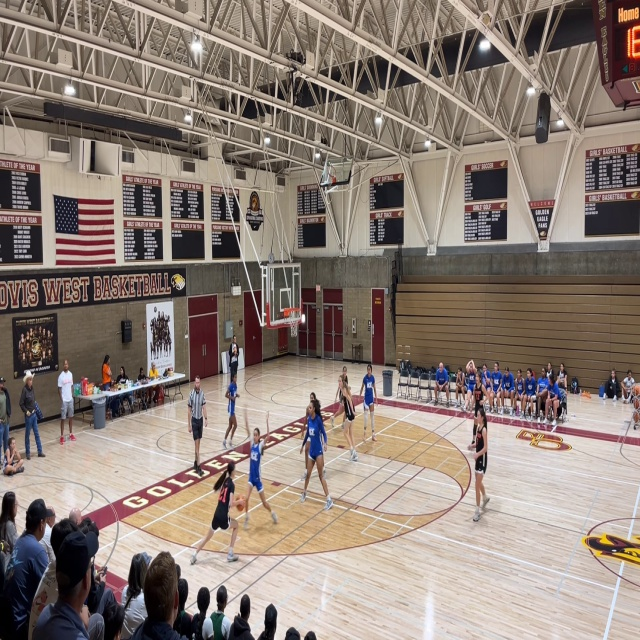Basketball: (234, 496, 245, 512)
